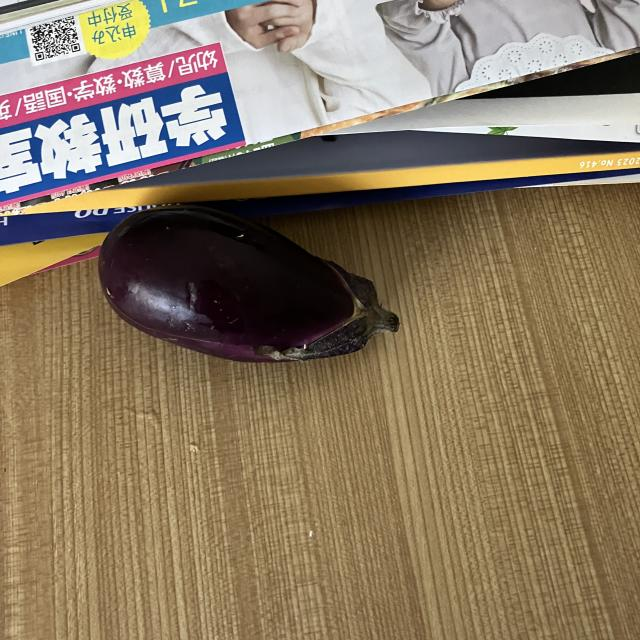eggplant: (93, 204, 405, 366)
